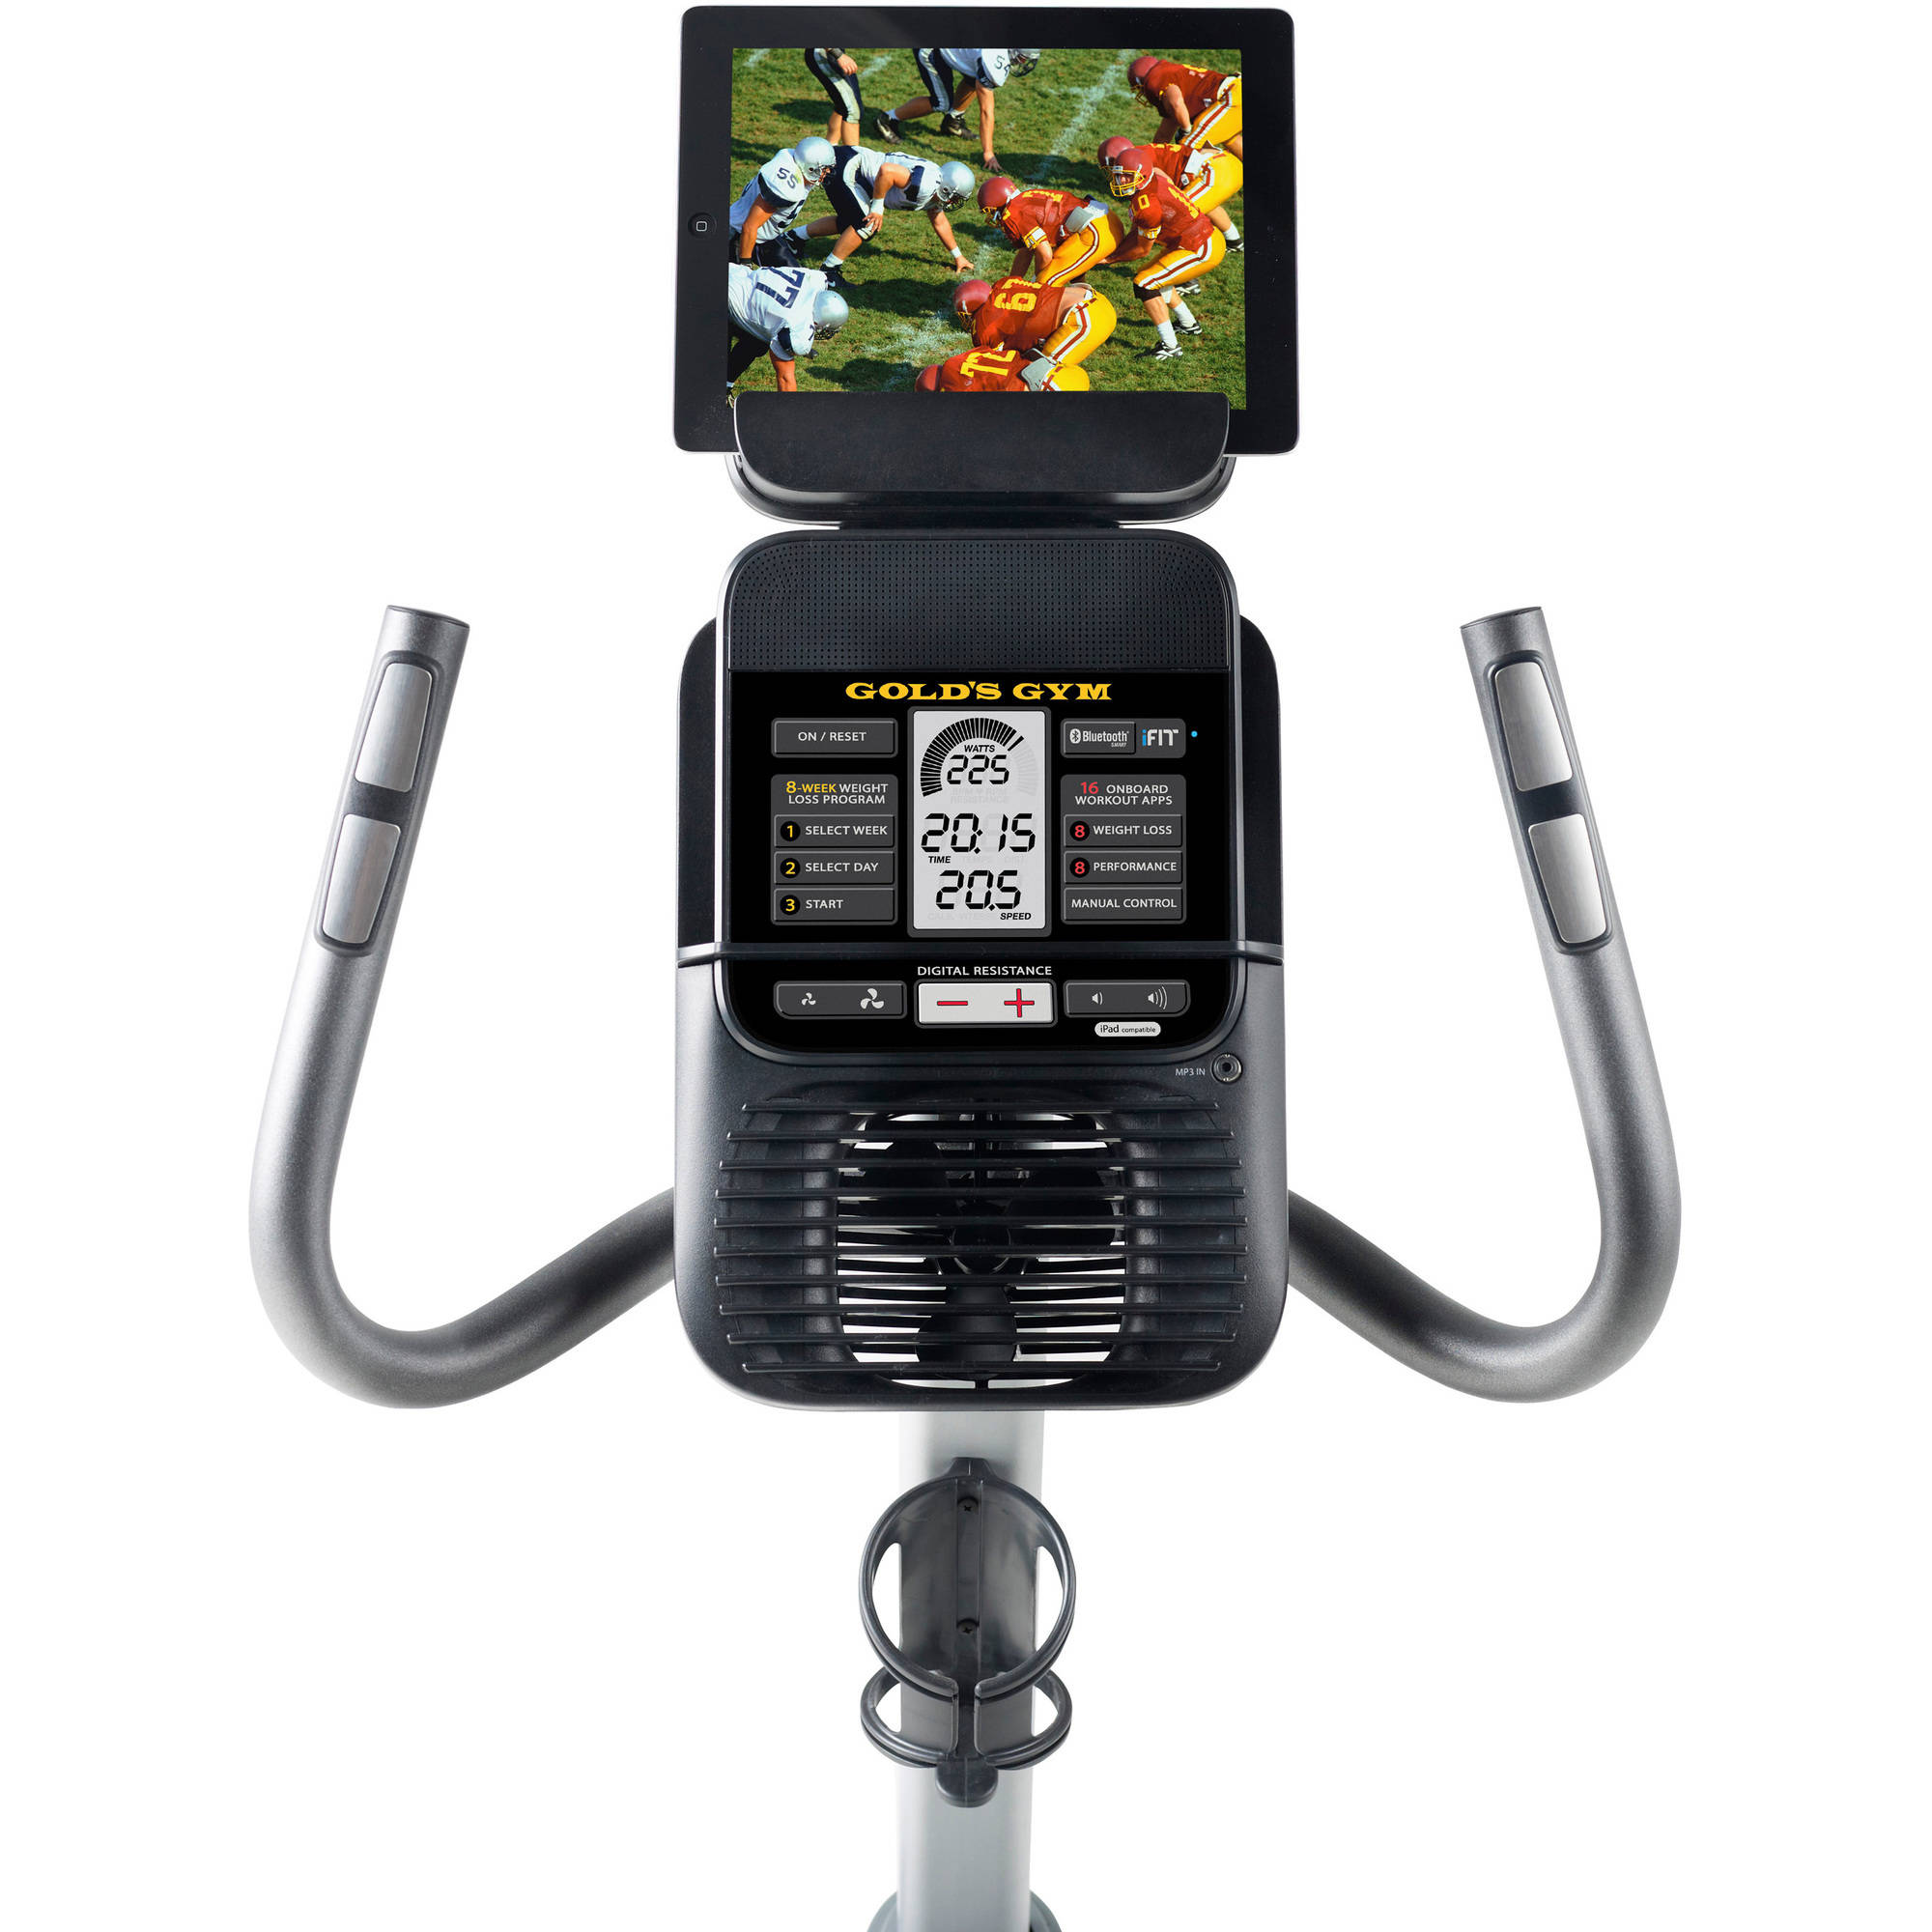gym_bike: (239, 2, 1743, 1907)
